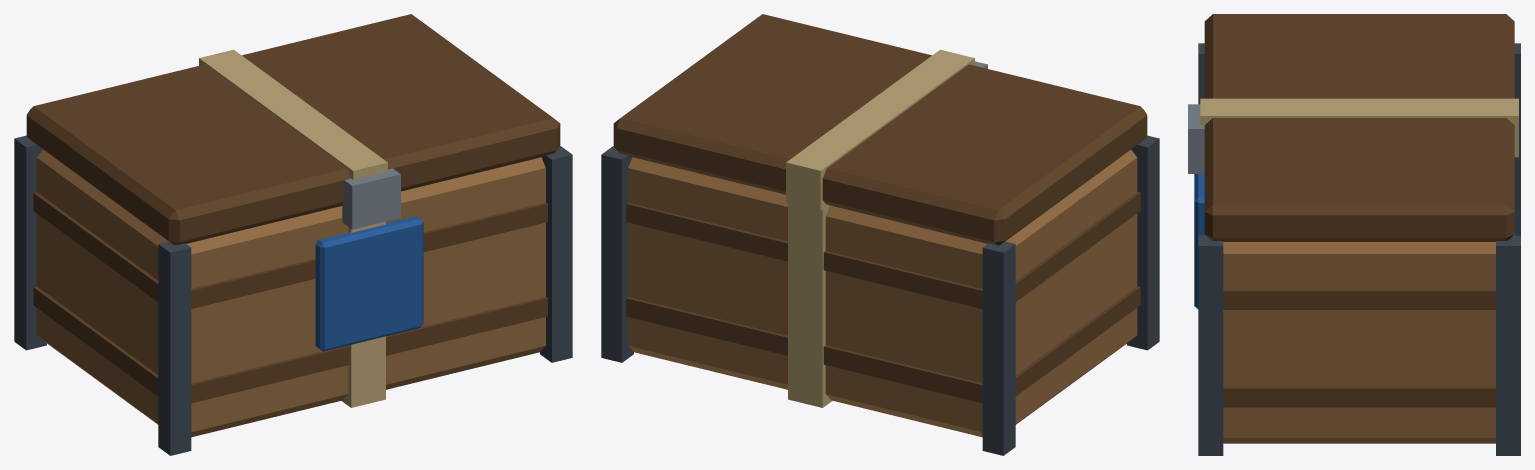
File: chest.fbx
3 views of the same model, side by side, from view 1: azimuth 30°, elevation 25°; view 2: azimuth 150°, elevation 25°; view 3: azimuth 270°, elevation 25° (orthographic). The views are drawn at different scales.
Visible parts, largest first — view 1: chest, Lid; view 2: chest, Lid; view 3: Lid, chest.
Boxes of the visible parts, x1,y1,x2,y2 form: chest: [14, 135, 572, 455]; Lid: [26, 14, 560, 245]; chest: [601, 135, 1159, 455]; Lid: [613, 14, 1147, 245]; Lid: [1188, 14, 1518, 241]; chest: [1194, 43, 1520, 455].
Size of the model in its own units: 1.16 by 0.66 by 0.805.
